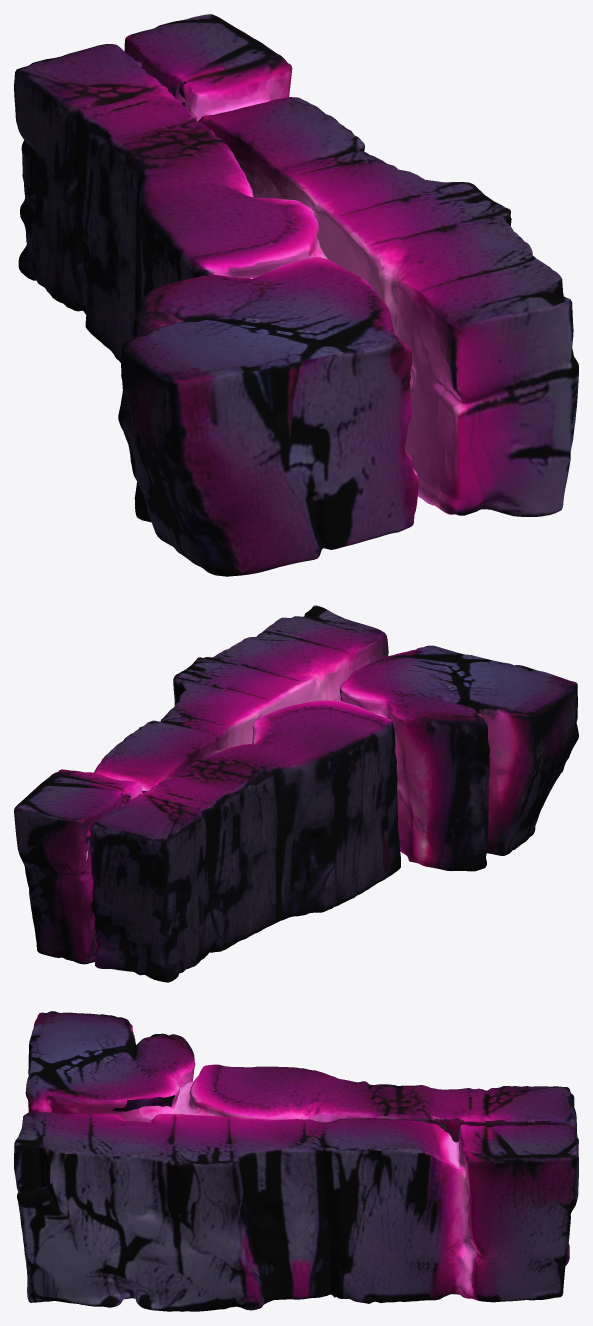
Rendered from shelf-break-3-generated-2026-05-17T20-41-08-791Z.high.glb.
3 renders of one model, top to bottom at view 1: azimuth 30°, elevation 25°; view 2: azimuth 150°, elevation 25°; view 3: azimuth 270°, elevation 25°, orthographic. The views are drawn at different scales.
Parts seen in each view (by area): view 1: temp_mesh.ply; view 2: temp_mesh.ply; view 3: temp_mesh.ply.
Boxes of the visible parts, x1=… form: temp_mesh.ply: x1=14, y1=14, x2=578, y2=576; temp_mesh.ply: x1=14, y1=605, x2=578, y2=982; temp_mesh.ply: x1=14, y1=1011, x2=578, y2=1311.
Bounding box in the file's own units: 1.27 × 0.6163 × 1.97.
Materials: 1 (1 with a texture image).
